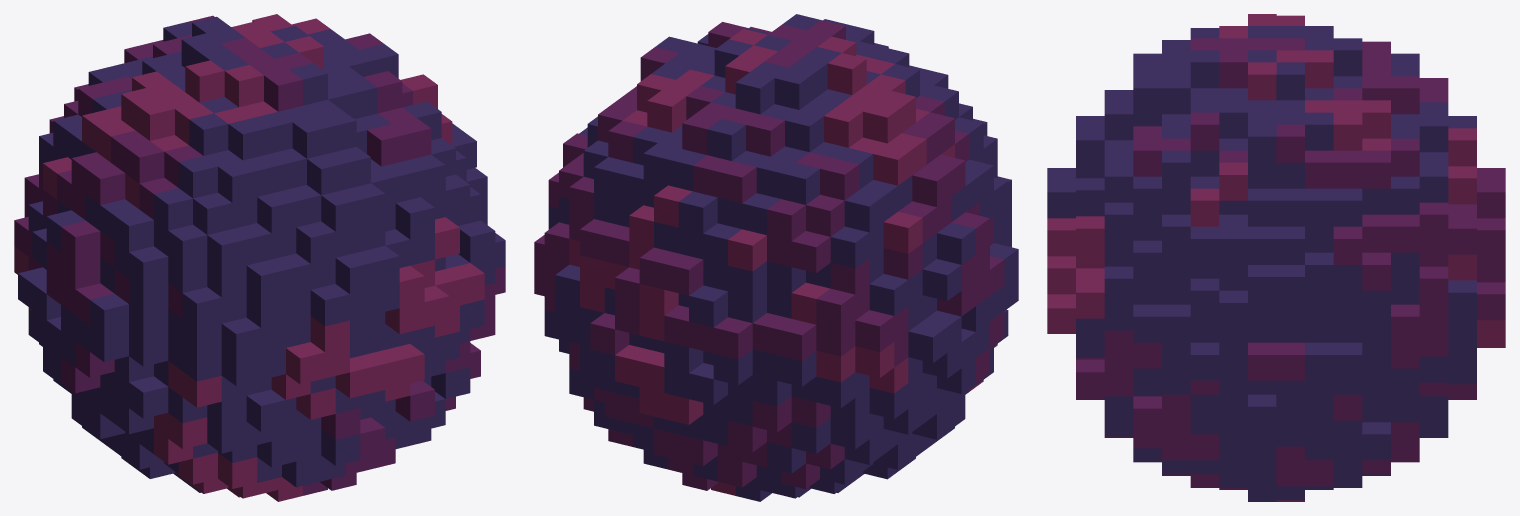
File: planeta-16d.obj
3 views of the same model, side by side, from view 1: azimuth 30°, elevation 25°; view 2: azimuth 150°, elevation 25°; view 3: azimuth 270°, elevation 25° (orthographic).
Bounding box in the file's own units: 1.6 × 1.6 × 1.6.
Materials: 1 (1 with a texture image).
